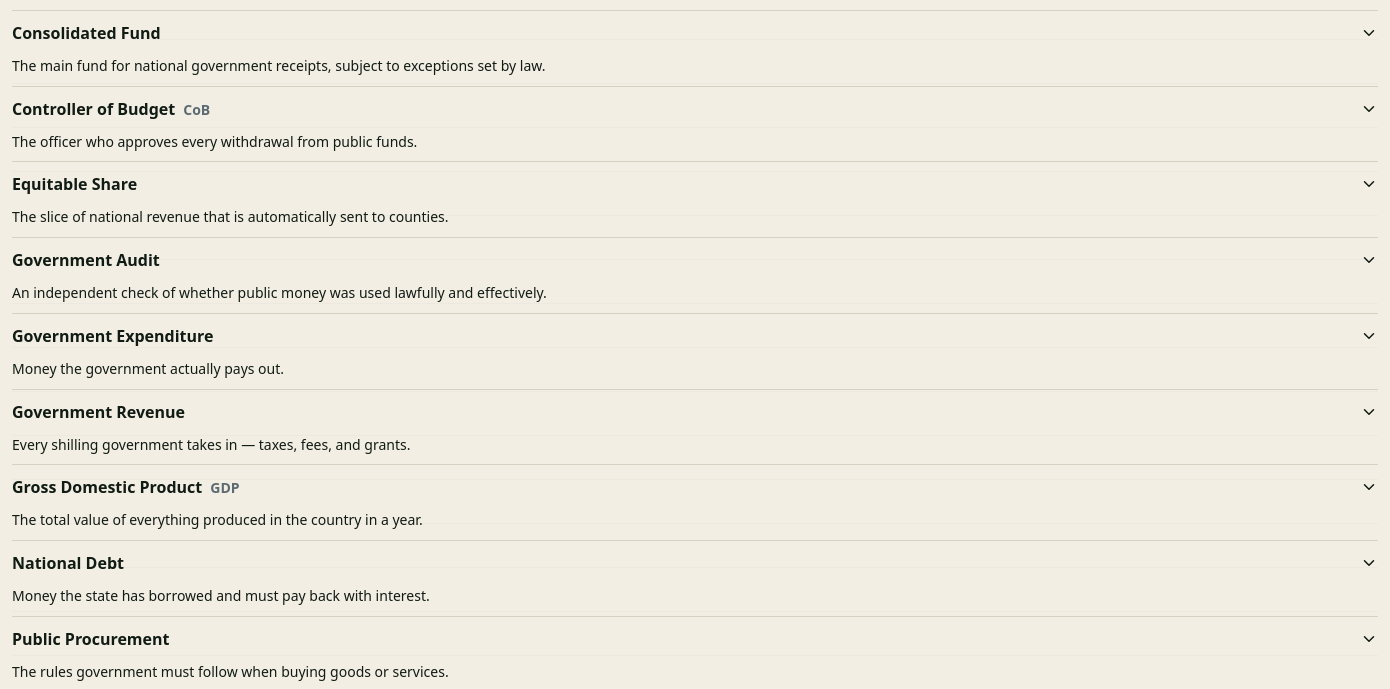
Test: interpolates live GDP (trillion) and equitable share (billion) figures
(page scrolled)
Click the button "Gross Domestic Product": (107, 487) [12,465,1378,509]
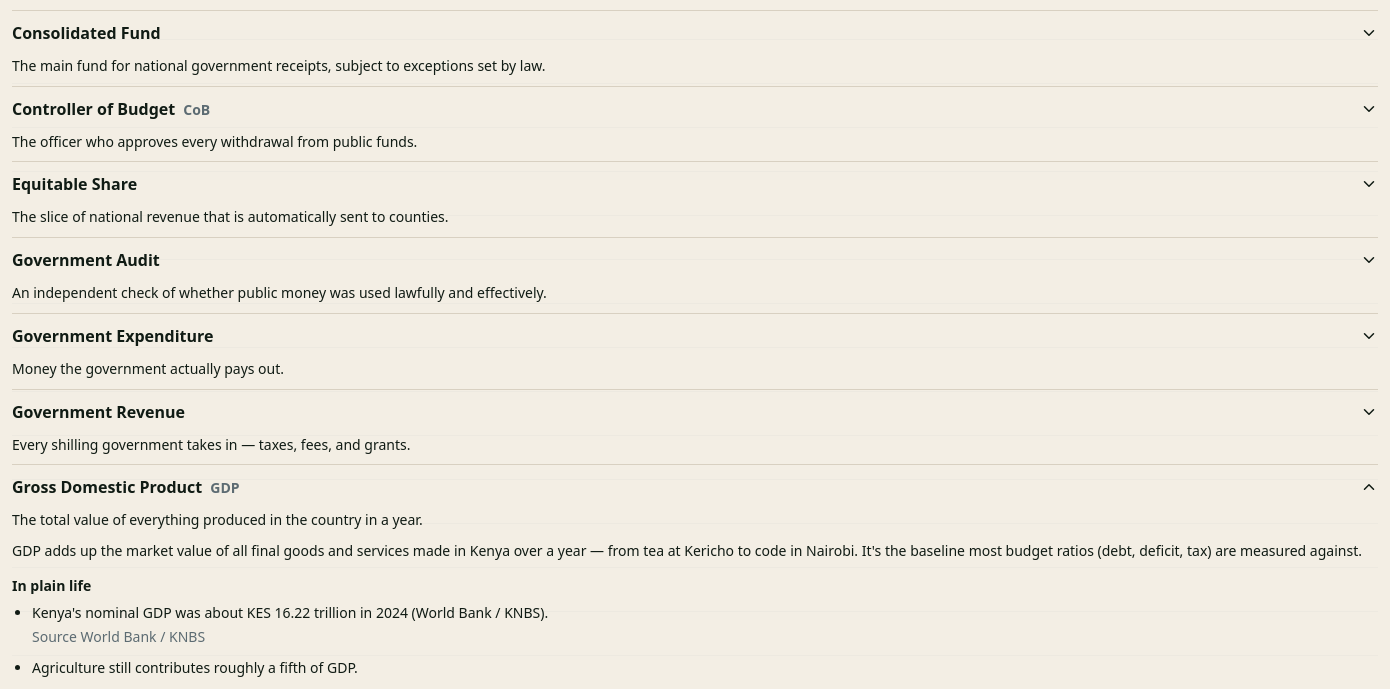
Result: the text "Kenya's nominal GDP was about KES 16.22 trillion in 2024" is shown at [32,602,548,622]
Click the button "Equitable Share": (75, 184) [12,162,1378,206]
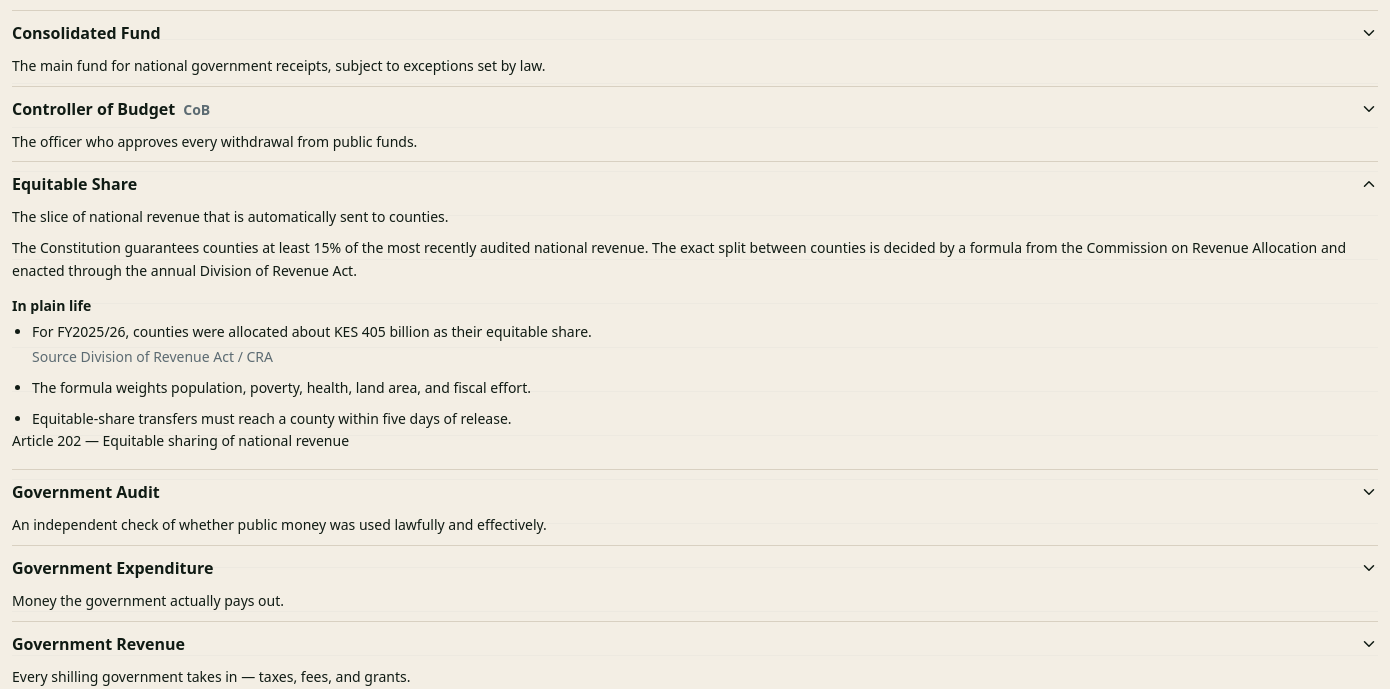
Result: the text "For FY2025/26, counties were allocated about KES 405 billion" is shown at [32,322,592,341]
